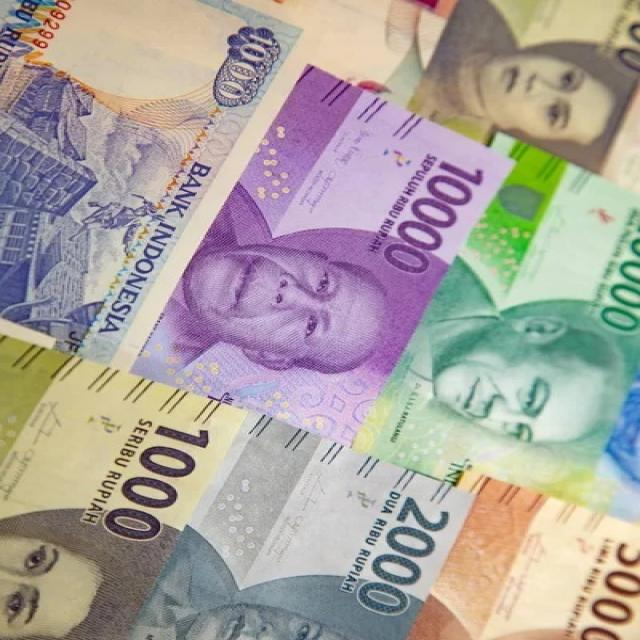1000IndonesianRupiah: (1, 342, 204, 631)
